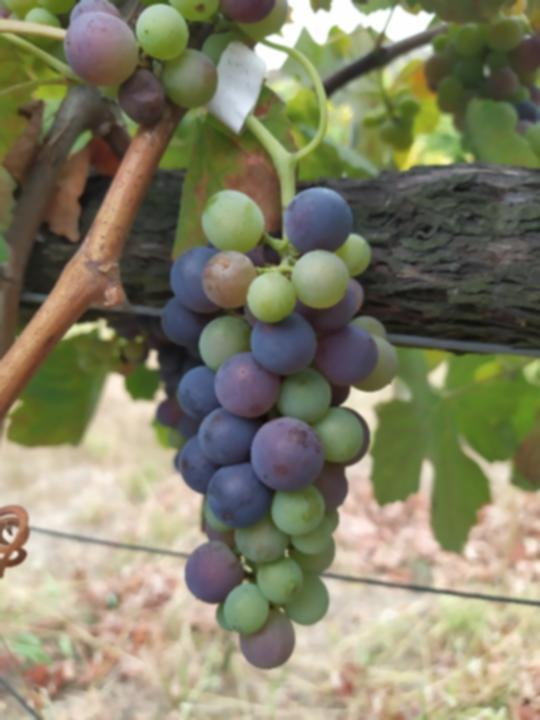grape: (159, 185, 403, 671)
